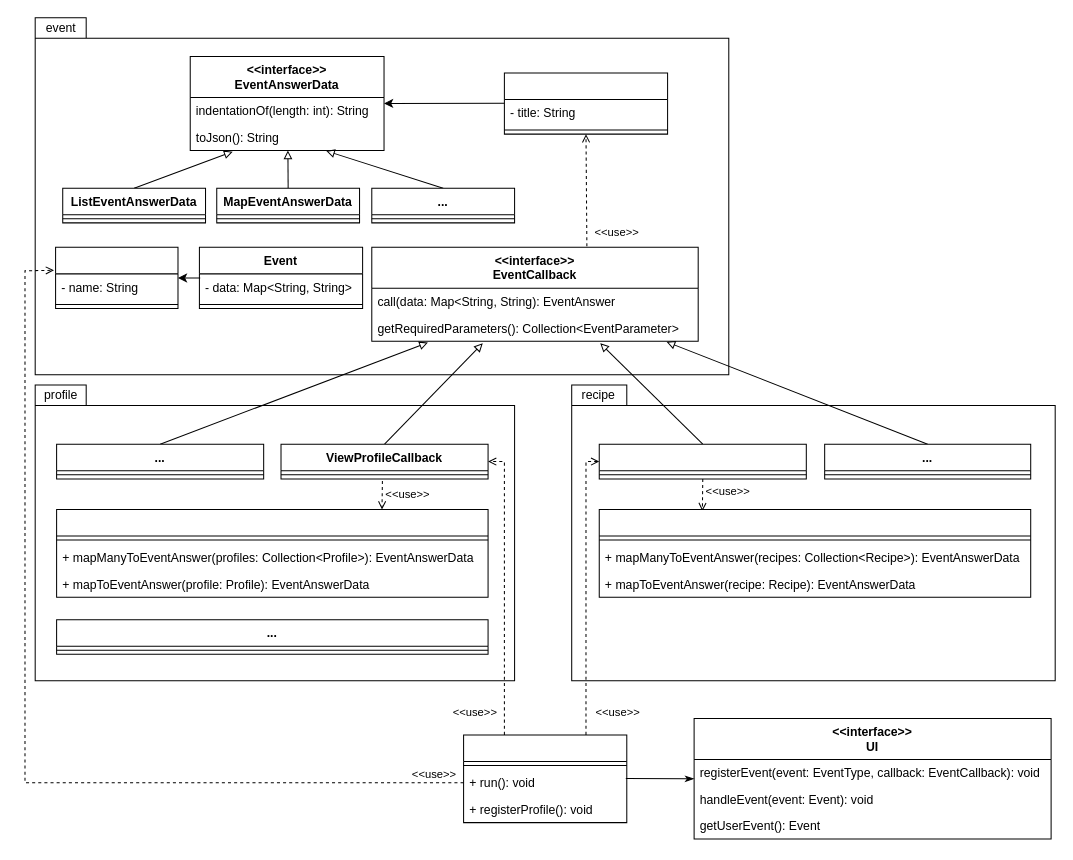
This 1073x860 diagram has some shape labels left out. The box of each missing label's shape, as (x1, y1, x2, y2) in pixels:
Controller: (463, 734, 627, 823)
EventAnswer: (503, 72, 668, 134)
EventType: (55, 246, 178, 309)
ProfileMapper: (56, 508, 488, 597)
RecipeMapper: (598, 508, 1031, 597)
ViewRecipesCallback: (598, 443, 806, 479)
